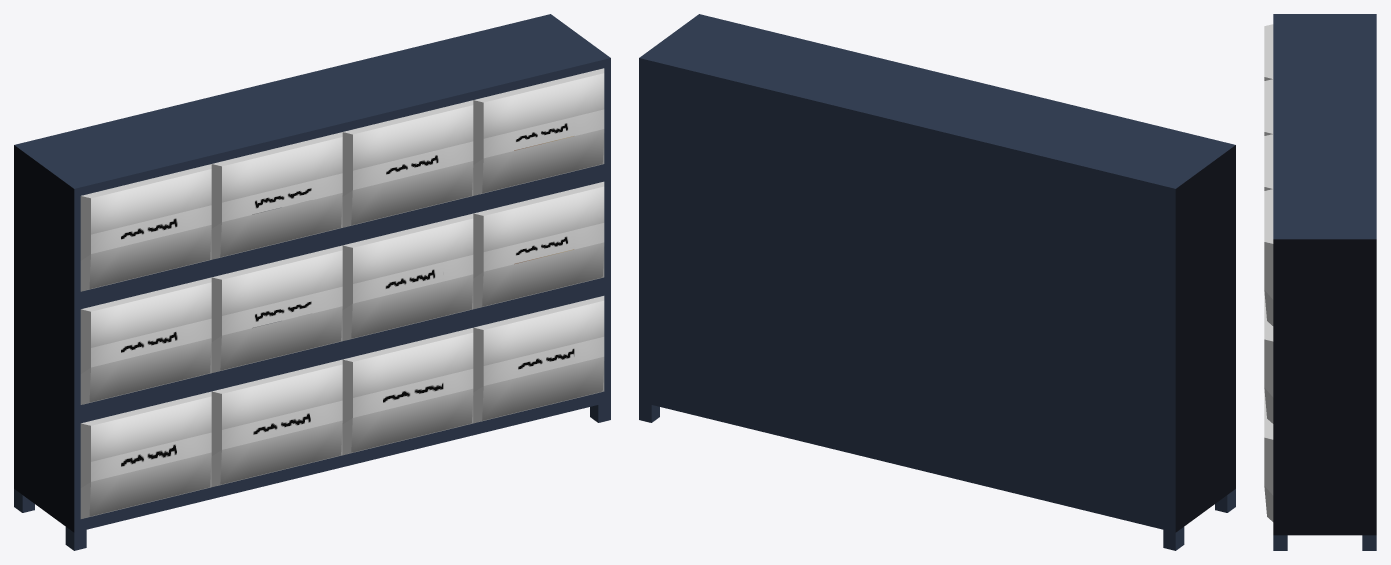
The model's file is Storage_v2.glb.
3 views of the same model, side by side, from view 1: azimuth 30°, elevation 25°; view 2: azimuth 150°, elevation 25°; view 3: azimuth 270°, elevation 25° (orthographic). The views are drawn at different scales.
Parts seen in each view (by area): view 1: Storage; view 2: Storage; view 3: Storage.
Part boxes in pixels (bbox=[...]): Storage: bbox=[14, 14, 610, 550]; Storage: bbox=[639, 14, 1235, 550]; Storage: bbox=[1264, 14, 1376, 550].
Bounding box in the file's own units: 3.76 × 2.43 × 0.793.
2 materials, 2 textured.
